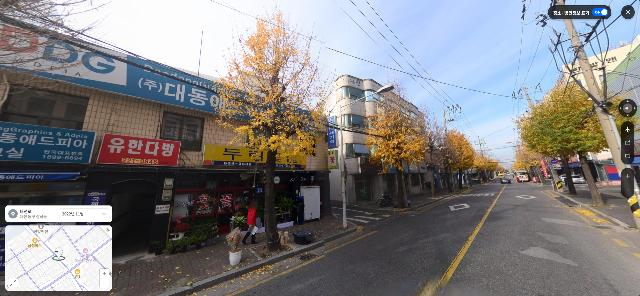ginkgo: (207, 5, 335, 253), (364, 73, 430, 210), (416, 100, 451, 198), (442, 128, 477, 191)
other: (513, 75, 616, 207), (509, 88, 586, 195)
